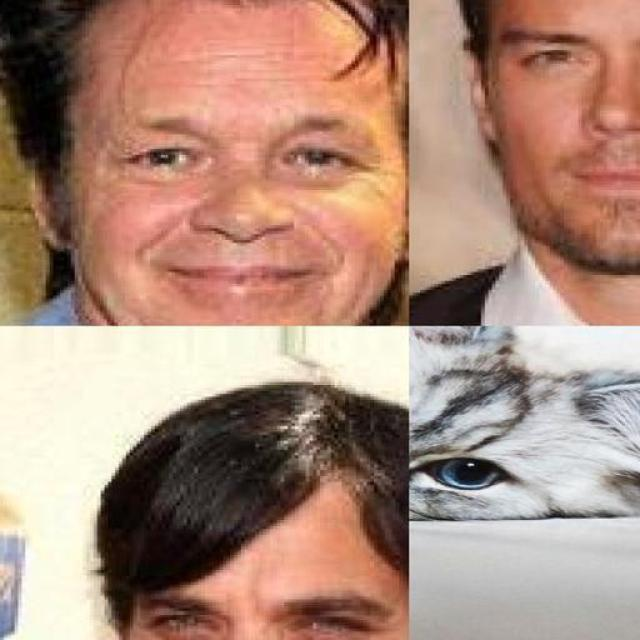bareface: (67, 34, 396, 330)
